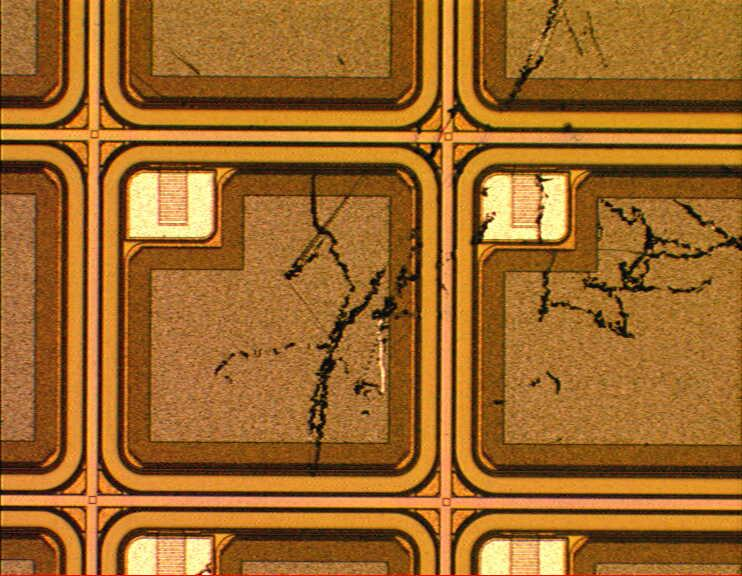SCRATCH: (202, 1, 742, 484)
